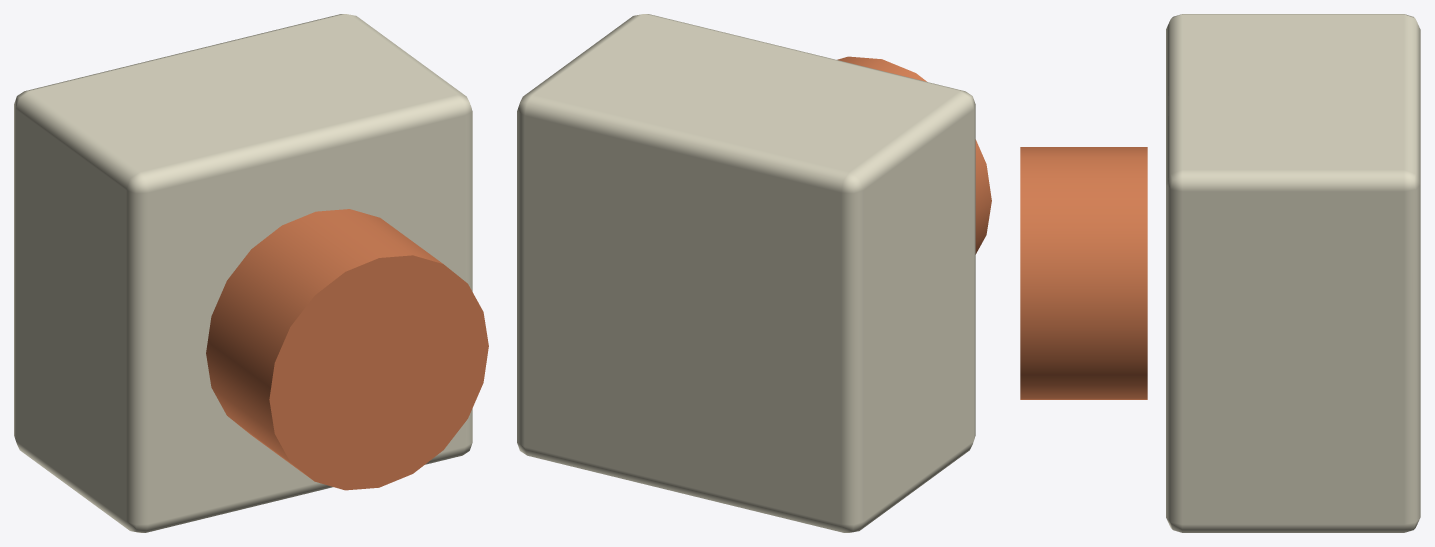
Rendered from off-grid-power-and-controls-emergency-stop-4d636803__3010.glb.
The picture shows the model from 3 angles, left to right: view 1: azimuth 30°, elevation 25°; view 2: azimuth 150°, elevation 25°; view 3: azimuth 270°, elevation 25°; orthographic projection.
Parts seen in each view (by area): view 1: emergency-stop; view 2: emergency-stop; view 3: emergency-stop.
Boxes of the visible parts, bbox=[...] form: emergency-stop: bbox=[14, 14, 488, 532]; emergency-stop: bbox=[517, 14, 991, 532]; emergency-stop: bbox=[1020, 14, 1420, 532].
Bounding box in the file's own units: 0.11 × 0.11 × 0.11.
